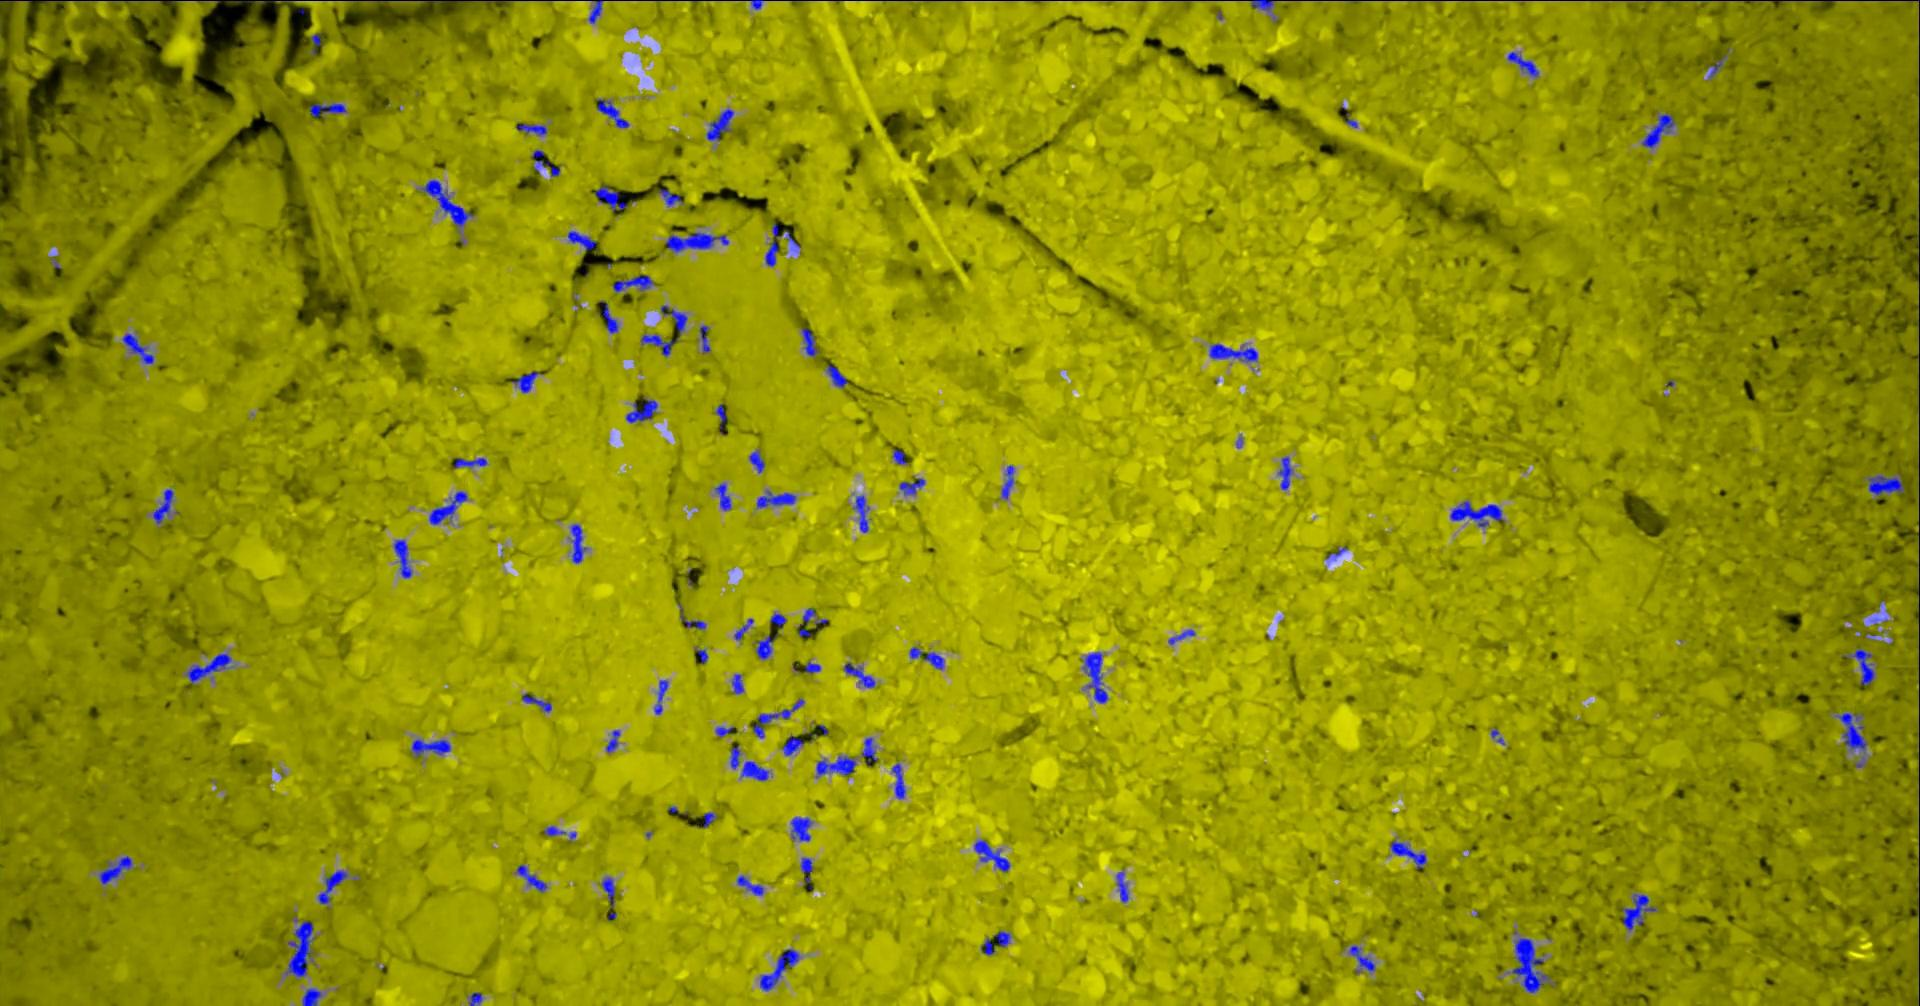ant: (422, 179, 472, 227), (1511, 937, 1549, 992), (752, 699, 803, 738), (759, 948, 799, 991), (284, 920, 312, 976), (764, 224, 800, 265), (1449, 500, 1503, 526), (185, 653, 230, 683), (428, 490, 467, 525), (1082, 652, 1107, 702), (1622, 893, 1655, 930), (665, 232, 728, 251), (1844, 647, 1874, 685), (1641, 113, 1674, 147), (974, 840, 1010, 871), (1837, 713, 1865, 752), (1390, 840, 1426, 869), (596, 98, 629, 127), (317, 870, 347, 903), (122, 333, 152, 363), (99, 855, 131, 883), (1209, 343, 1257, 361), (815, 756, 855, 777), (706, 108, 733, 140), (1507, 51, 1538, 77), (516, 864, 546, 890), (594, 185, 626, 211), (909, 647, 943, 669), (531, 149, 559, 177), (843, 662, 874, 687), (625, 398, 657, 422), (1867, 475, 1903, 495), (660, 305, 687, 333), (640, 334, 674, 356), (392, 539, 411, 577), (677, 603, 705, 629), (152, 489, 173, 523), (756, 490, 795, 507), (1349, 945, 1374, 970), (612, 276, 654, 291), (599, 300, 618, 333), (411, 739, 450, 756), (570, 523, 585, 563), (521, 694, 551, 713), (512, 371, 538, 392), (740, 760, 768, 780), (853, 495, 869, 532), (737, 875, 763, 895), (568, 230, 596, 249), (790, 815, 811, 840), (797, 607, 815, 636), (309, 103, 345, 117), (825, 365, 847, 387), (891, 763, 905, 798), (1277, 456, 1291, 489), (714, 483, 730, 511), (861, 737, 877, 765), (756, 635, 775, 659), (801, 326, 817, 356), (654, 680, 667, 714), (1167, 629, 1195, 644), (601, 876, 615, 907), (657, 188, 682, 205), (1001, 465, 1013, 498), (899, 478, 924, 494), (1707, 55, 1724, 77), (734, 619, 753, 639), (782, 735, 803, 754), (800, 857, 811, 889), (588, 0, 603, 23), (749, 450, 764, 473), (1116, 871, 1128, 902), (302, 987, 321, 1005), (453, 457, 486, 467), (716, 403, 726, 434), (516, 123, 546, 133), (604, 729, 618, 751), (1250, 0, 1274, 11), (698, 325, 709, 352), (697, 812, 715, 827), (993, 931, 1010, 946), (310, 33, 321, 55), (980, 937, 994, 954), (731, 674, 743, 694), (891, 448, 905, 464), (770, 612, 786, 625), (804, 661, 820, 673), (730, 746, 739, 768), (543, 826, 565, 835), (695, 648, 707, 662), (469, 992, 483, 1005), (715, 727, 733, 735), (422, 0, 472, 1)
